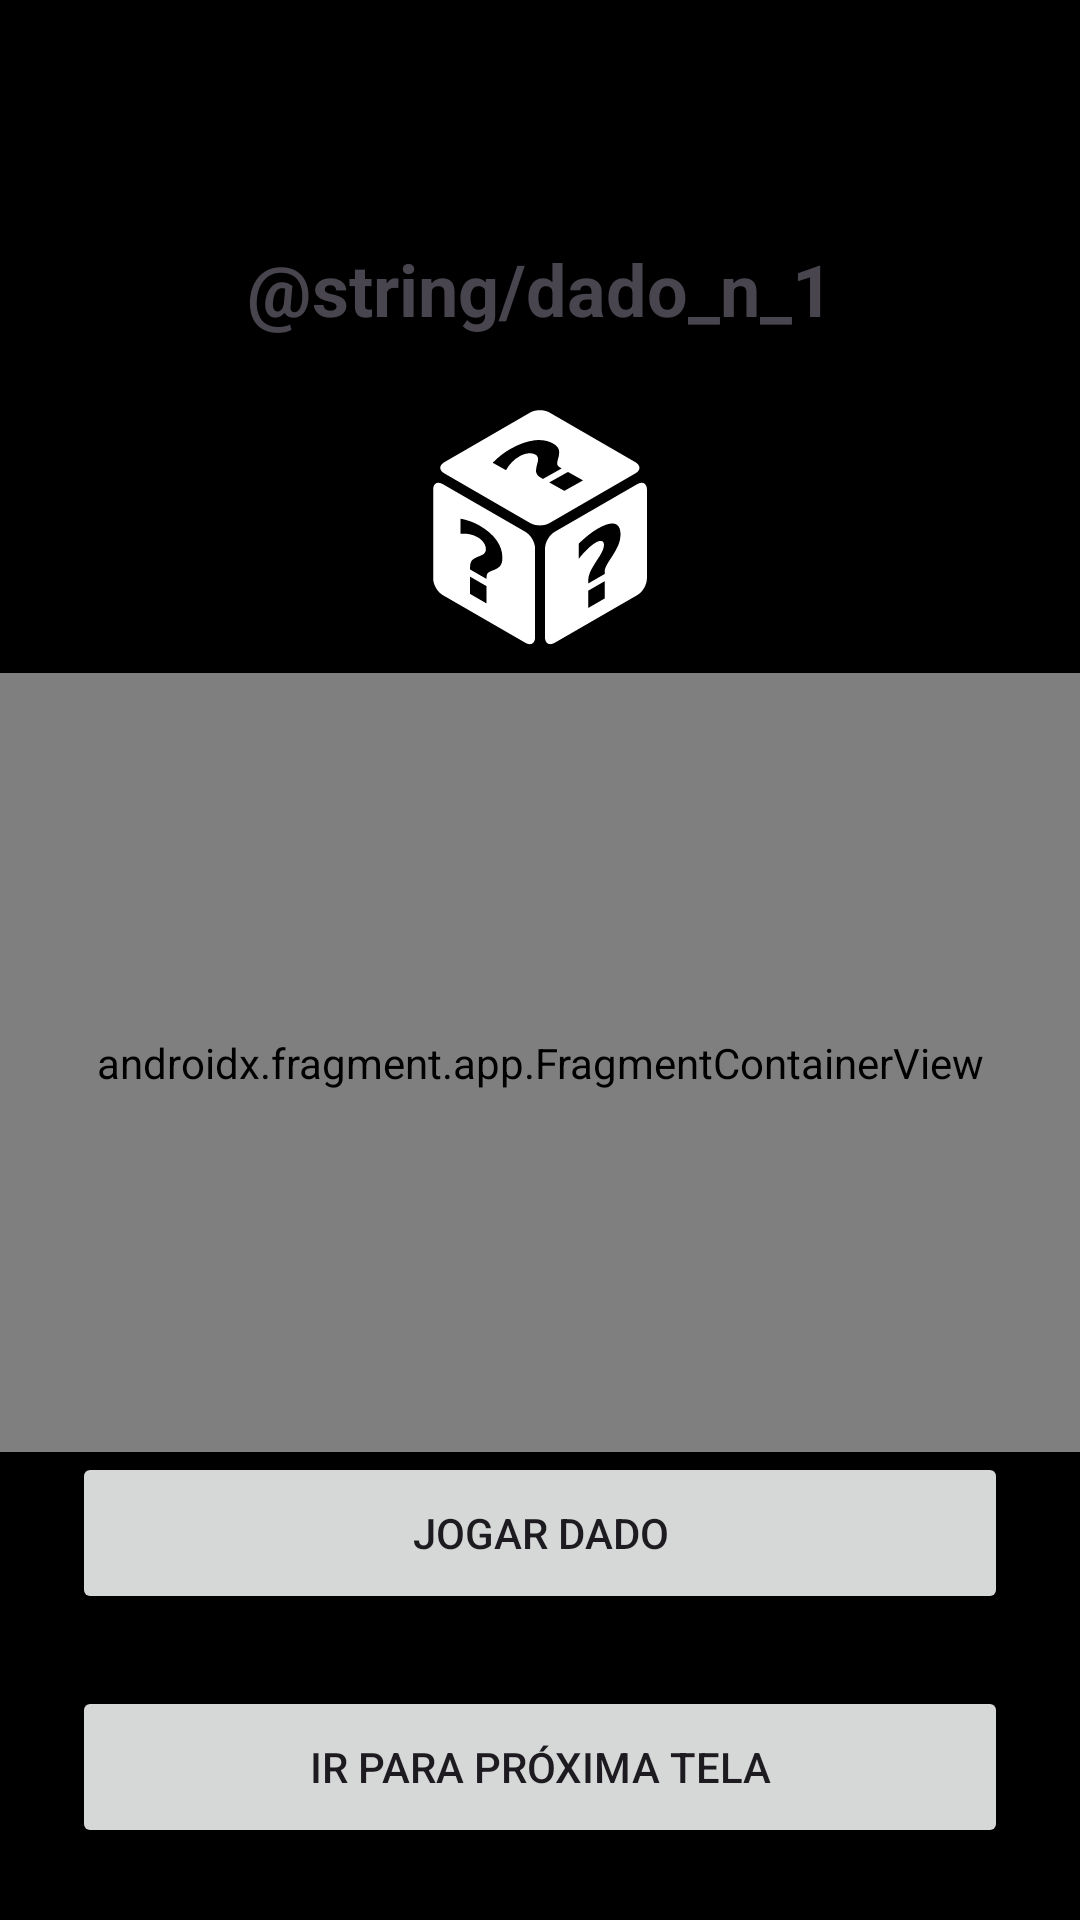

Screen size 1080 × 1920. Icon name, then its box in pixels as (x1, y1, x2, y2):
dice unknown: (433, 410, 647, 645)
